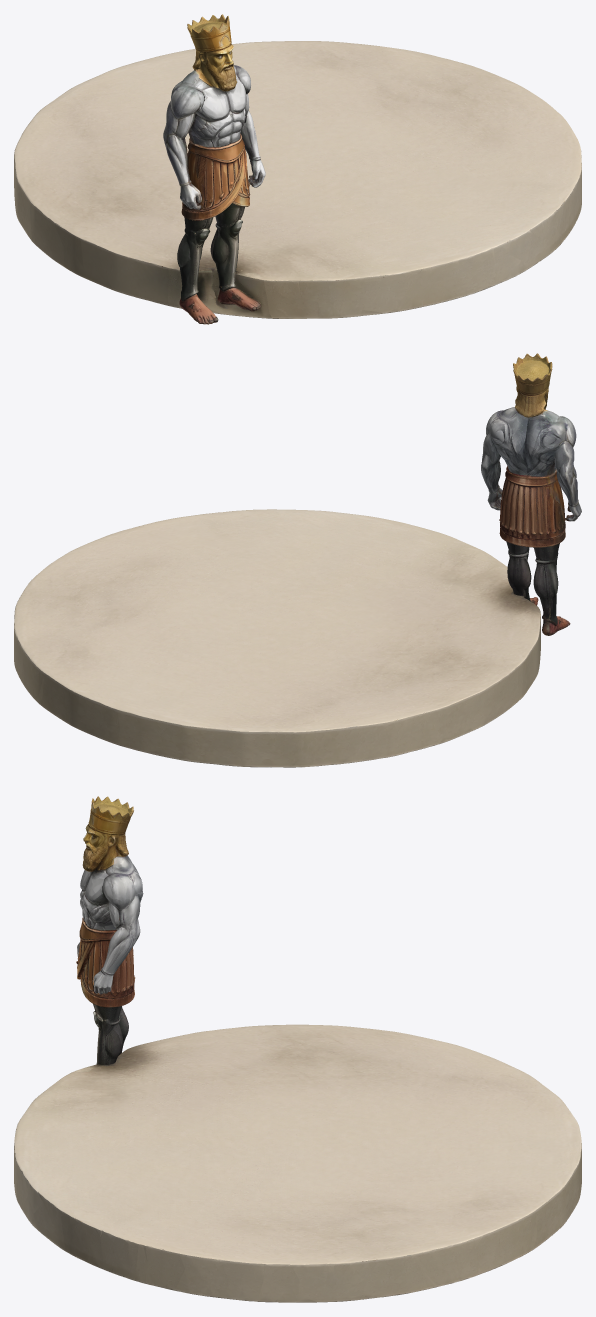
The model's file is babylon.glb.
3 views of the same model, one above another, from view 1: azimuth 30°, elevation 25°; view 2: azimuth 150°, elevation 25°; view 3: azimuth 270°, elevation 25° (orthographic). The views are drawn at different scales.
Bounding box in the file's own units: 1.9 × 1.09 × 1.9.
Materials: 1 (1 with a texture image).
